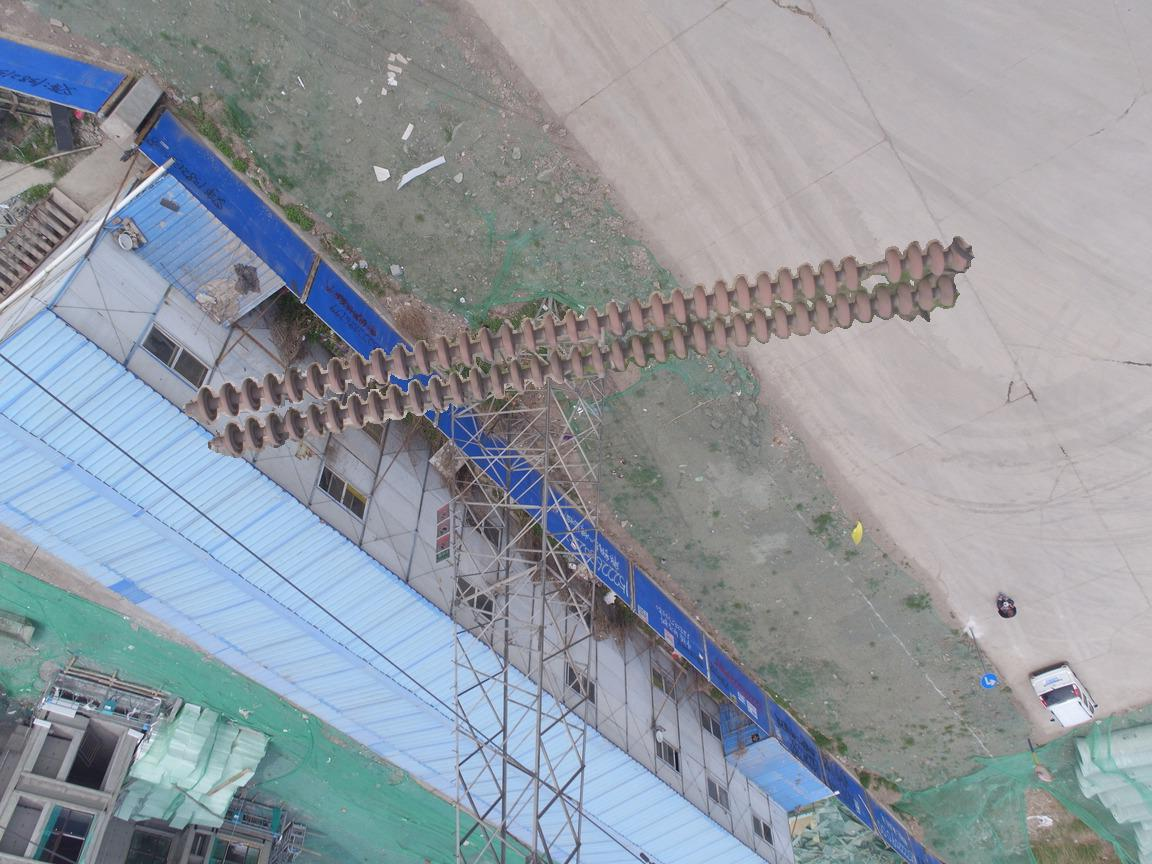insulator: (192, 230, 976, 460)
insulator_stringdrop: (841, 243, 905, 294)
